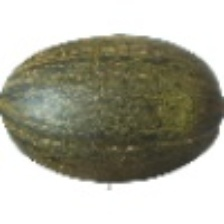honeydew: (24, 28, 203, 166)
